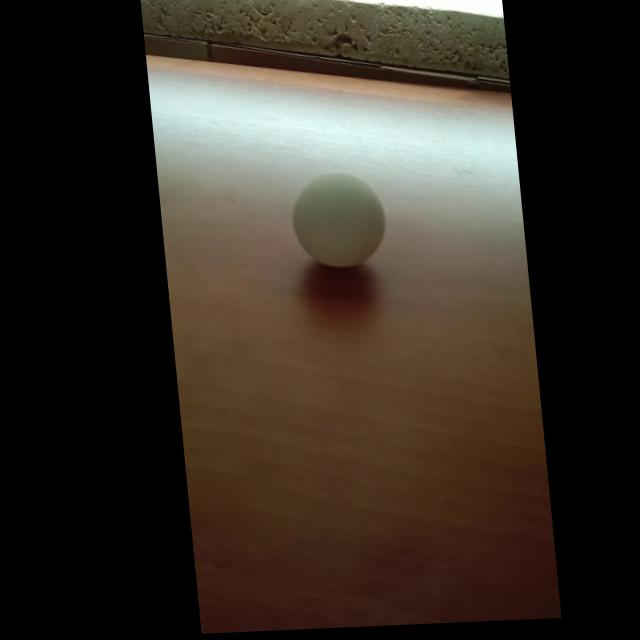white ball: (287, 170, 390, 270)
